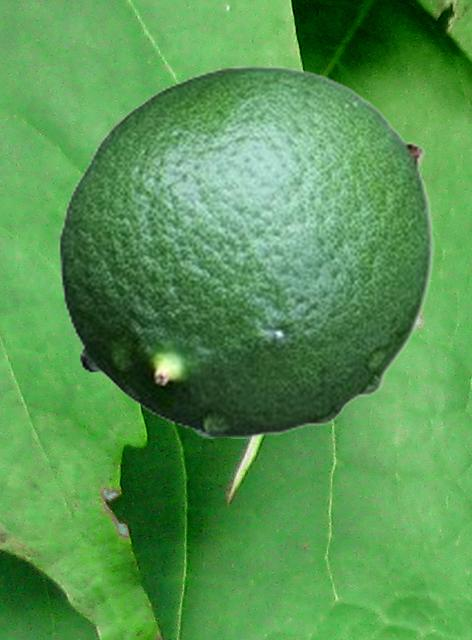calamansi: (58, 64, 433, 437)
